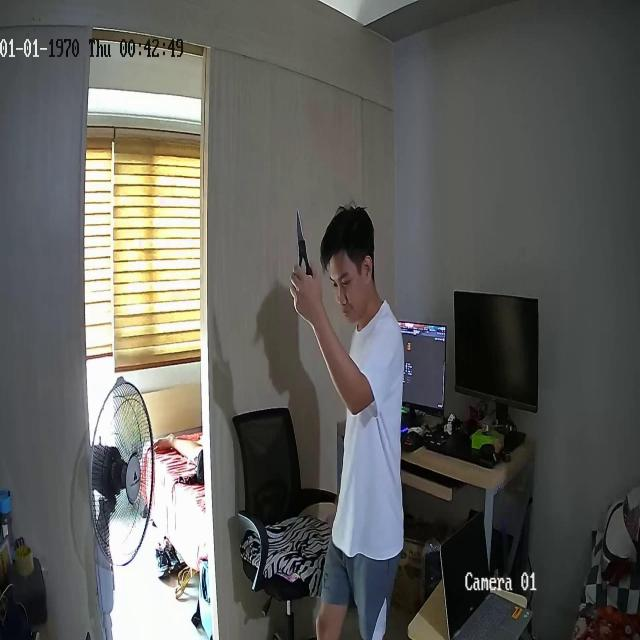scissor: (297, 209, 312, 279)
